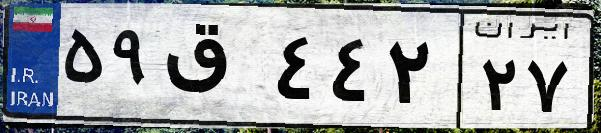2: (385, 28, 445, 110), (475, 38, 525, 113)
4: (270, 28, 330, 110), (330, 28, 385, 110)
5: (57, 26, 110, 100)
7: (525, 38, 570, 115)
9: (110, 28, 158, 98)
ق: (158, 20, 270, 120)
